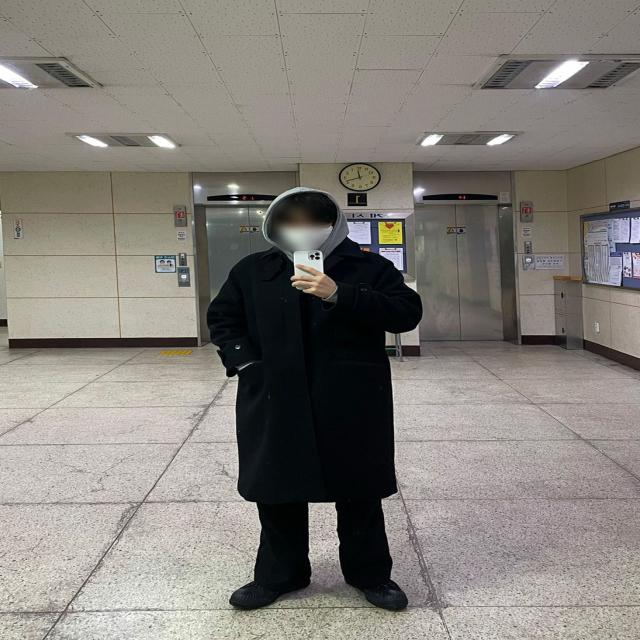coat: (206, 238, 422, 503)
